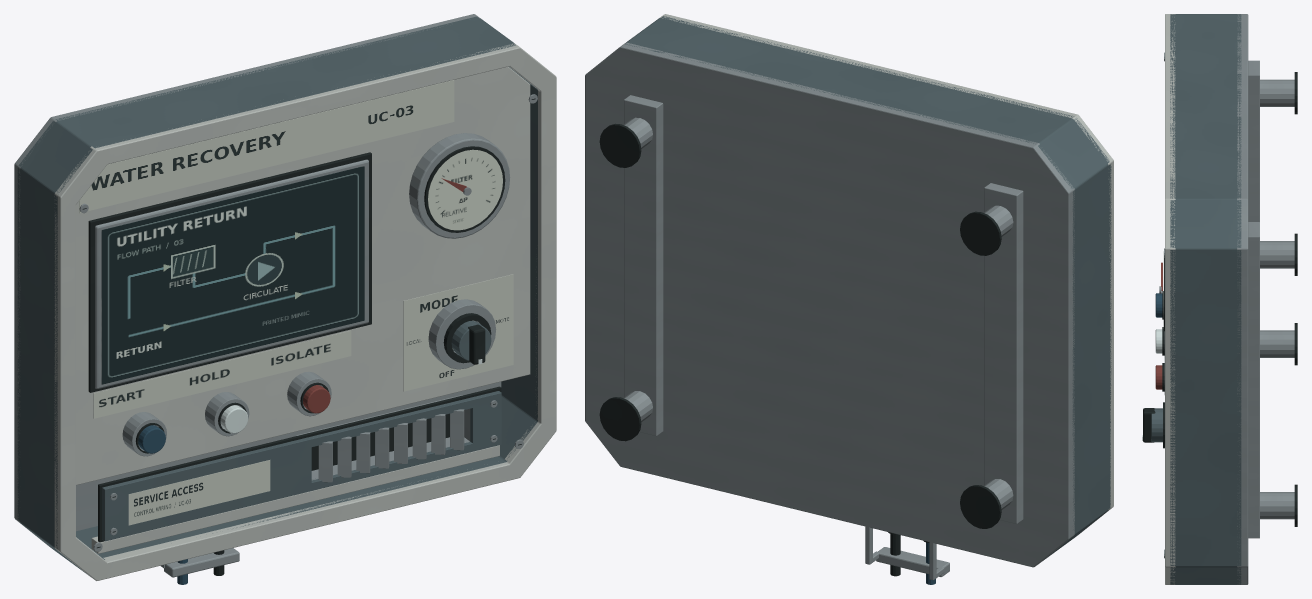
Rendered from AST-ENG-003.glb.
3 renders of one model, left to right at view 1: azimuth 30°, elevation 25°; view 2: azimuth 150°, elevation 25°; view 3: azimuth 270°, elevation 25°, orthographic. The views are drawn at different scales.
Parts seen in each view (by area): view 1: AST-ENG-003_static_staff_white_paint, AST-ENG-003_static_utility_console_original_print, AST-ENG-003_static_staff_bluegrey_paint, AST-ENG-003_static_staff_zinc, SERVICE_removable_hatch, AST-ENG-003_static_staff_rubber, AST-ENG-003_static_staff_zinc_hatch, AST-ENG-003_static_utility_console_original_print_hatch, CTRL_mode_selector; view 2: AST-ENG-003_static_staff_zinc, AST-ENG-003_static_staff_bluegrey_paint, AST-ENG-003_static_staff_rubber, AST-ENG-003_static_staff_white_paint; view 3: AST-ENG-003_static_staff_bluegrey_paint, AST-ENG-003_static_staff_zinc, AST-ENG-003_static_staff_white_paint, AST-ENG-003_static_staff_rubber, CTRL_mode_selector, CTRL_mode_selector_grip.
Part boxes in pixels (x1=…): AST-ENG-003_static_staff_white_paint: x1=54, y1=43, x2=556, y2=580; AST-ENG-003_static_utility_console_original_print: x1=79, y1=80, x2=513, y2=418; AST-ENG-003_static_staff_bluegrey_paint: x1=17, y1=16, x2=537, y2=576; AST-ENG-003_static_staff_zinc: x1=14, y1=14, x2=537, y2=577; SERVICE_removable_hatch: x1=102, y1=391, x2=501, y2=541; AST-ENG-003_static_staff_rubber: x1=82, y1=98, x2=535, y2=575; AST-ENG-003_static_staff_zinc_hatch: x1=110, y1=400, x2=497, y2=535; AST-ENG-003_static_utility_console_original_print_hatch: x1=128, y1=460, x2=270, y2=525; CTRL_mode_selector: x1=451, y1=321, x2=491, y2=360; AST-ENG-003_static_staff_zinc: x1=585, y1=42, x2=1074, y2=580; AST-ENG-003_static_staff_bluegrey_paint: x1=625, y1=16, x2=1111, y2=560; AST-ENG-003_static_staff_rubber: x1=599, y1=123, x2=1001, y2=576; AST-ENG-003_static_staff_white_paint: x1=660, y1=14, x2=1113, y2=535; AST-ENG-003_static_staff_bluegrey_paint: x1=1170, y1=14, x2=1241, y2=584; AST-ENG-003_static_staff_zinc: x1=1159, y1=14, x2=1294, y2=584; AST-ENG-003_static_staff_white_paint: x1=1165, y1=14, x2=1175, y2=584; AST-ENG-003_static_staff_rubber: x1=1162, y1=72, x2=1297, y2=526; CTRL_mode_selector: x1=1151, y1=408, x2=1162, y2=442; CTRL_mode_selector_grip: x1=1143, y1=408, x2=1155, y2=442.
Bounding box in the file's own units: 0.82 × 0.7655 × 0.248.
8 materials, 8 textured.
